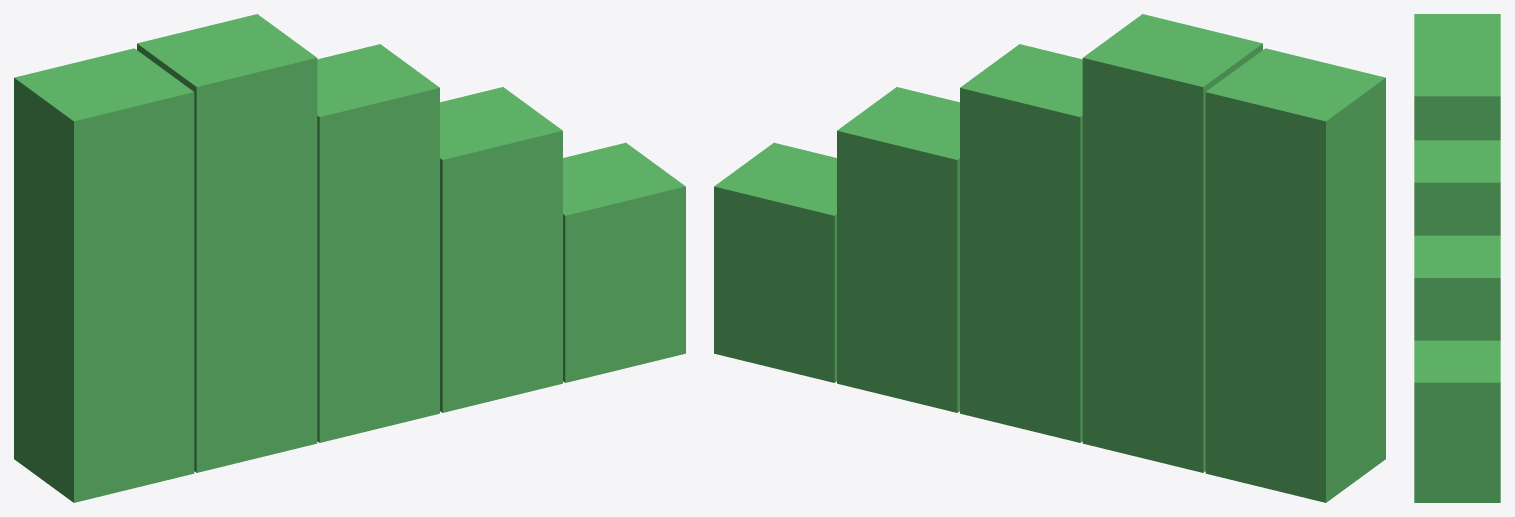
Rendered from ruin_wall_180_collision.glb.
The picture shows the model from 3 angles, left to right: view 1: azimuth 30°, elevation 25°; view 2: azimuth 150°, elevation 25°; view 3: azimuth 270°, elevation 25°; orthographic projection. The views are drawn at different scales.
Visible parts, largest first — view 1: ruin_wall_180_profile_0-col, ruin_wall_180_profile_1-col, ruin_wall_180_profile_2-col, ruin_wall_180_profile_3-col, ruin_wall_180_profile_4-col; view 2: ruin_wall_180_profile_0-col, ruin_wall_180_profile_1-col, ruin_wall_180_profile_2-col, ruin_wall_180_profile_3-col, ruin_wall_180_profile_4-col; view 3: ruin_wall_180_profile_4-col, ruin_wall_180_profile_3-col, ruin_wall_180_profile_2-col, ruin_wall_180_profile_1-col, ruin_wall_180_profile_0-col.
Part boxes in pixels (x1=…): ruin_wall_180_profile_0-col: x1=14, y1=48, x2=194, y2=502; ruin_wall_180_profile_1-col: x1=137, y1=14, x2=317, y2=472; ruin_wall_180_profile_2-col: x1=317, y1=44, x2=439, y2=442; ruin_wall_180_profile_3-col: x1=440, y1=87, x2=562, y2=412; ruin_wall_180_profile_4-col: x1=563, y1=142, x2=685, y2=382; ruin_wall_180_profile_0-col: x1=1205, y1=48, x2=1385, y2=502; ruin_wall_180_profile_1-col: x1=1082, y1=14, x2=1262, y2=472; ruin_wall_180_profile_2-col: x1=960, y1=44, x2=1082, y2=442; ruin_wall_180_profile_3-col: x1=837, y1=87, x2=959, y2=412; ruin_wall_180_profile_4-col: x1=714, y1=142, x2=836, y2=382; ruin_wall_180_profile_4-col: x1=1414, y1=340, x2=1500, y2=502; ruin_wall_180_profile_3-col: x1=1414, y1=235, x2=1500, y2=340; ruin_wall_180_profile_2-col: x1=1414, y1=140, x2=1500, y2=235; ruin_wall_180_profile_1-col: x1=1414, y1=54, x2=1500, y2=140; ruin_wall_180_profile_0-col: x1=1414, y1=14, x2=1500, y2=53.
Bounding box in the file's own units: 2.99 × 1.8 × 0.506.
